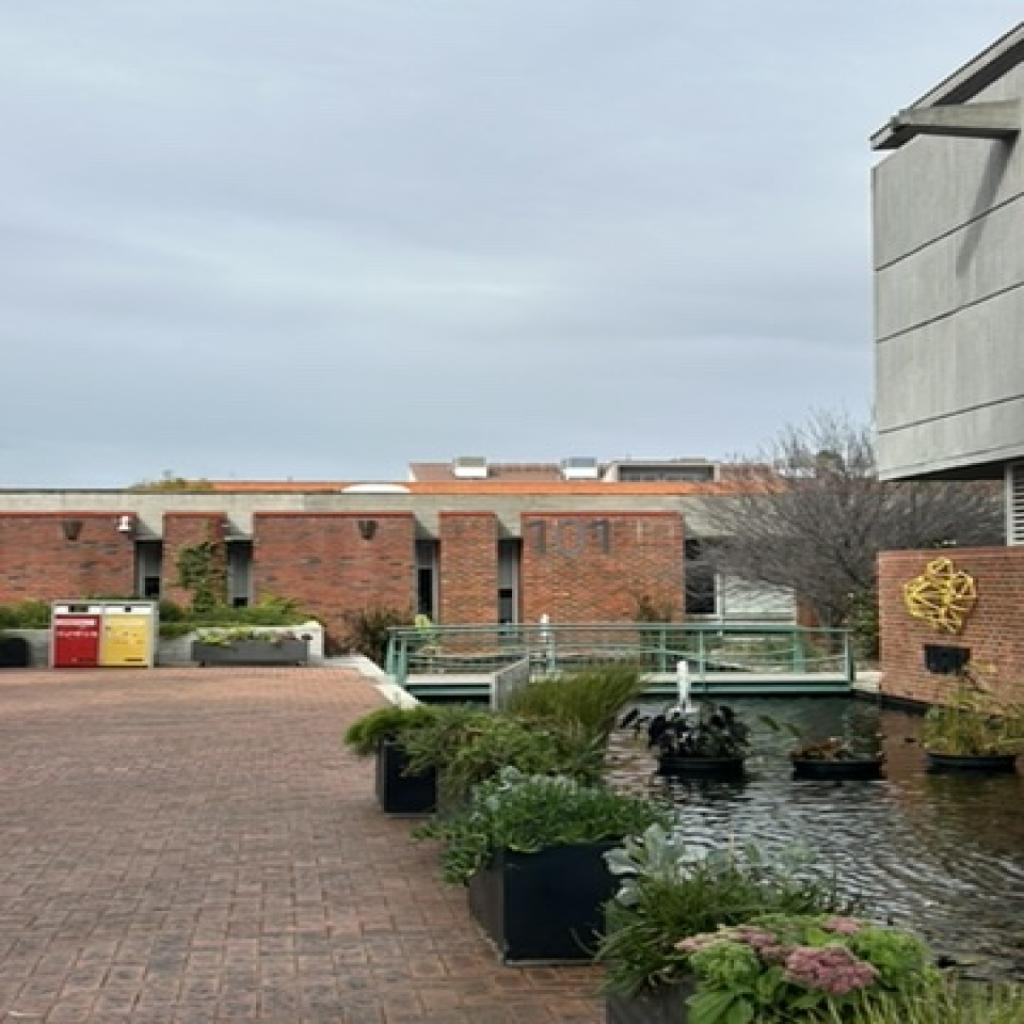BuildingCodes: (522, 513, 614, 559)
